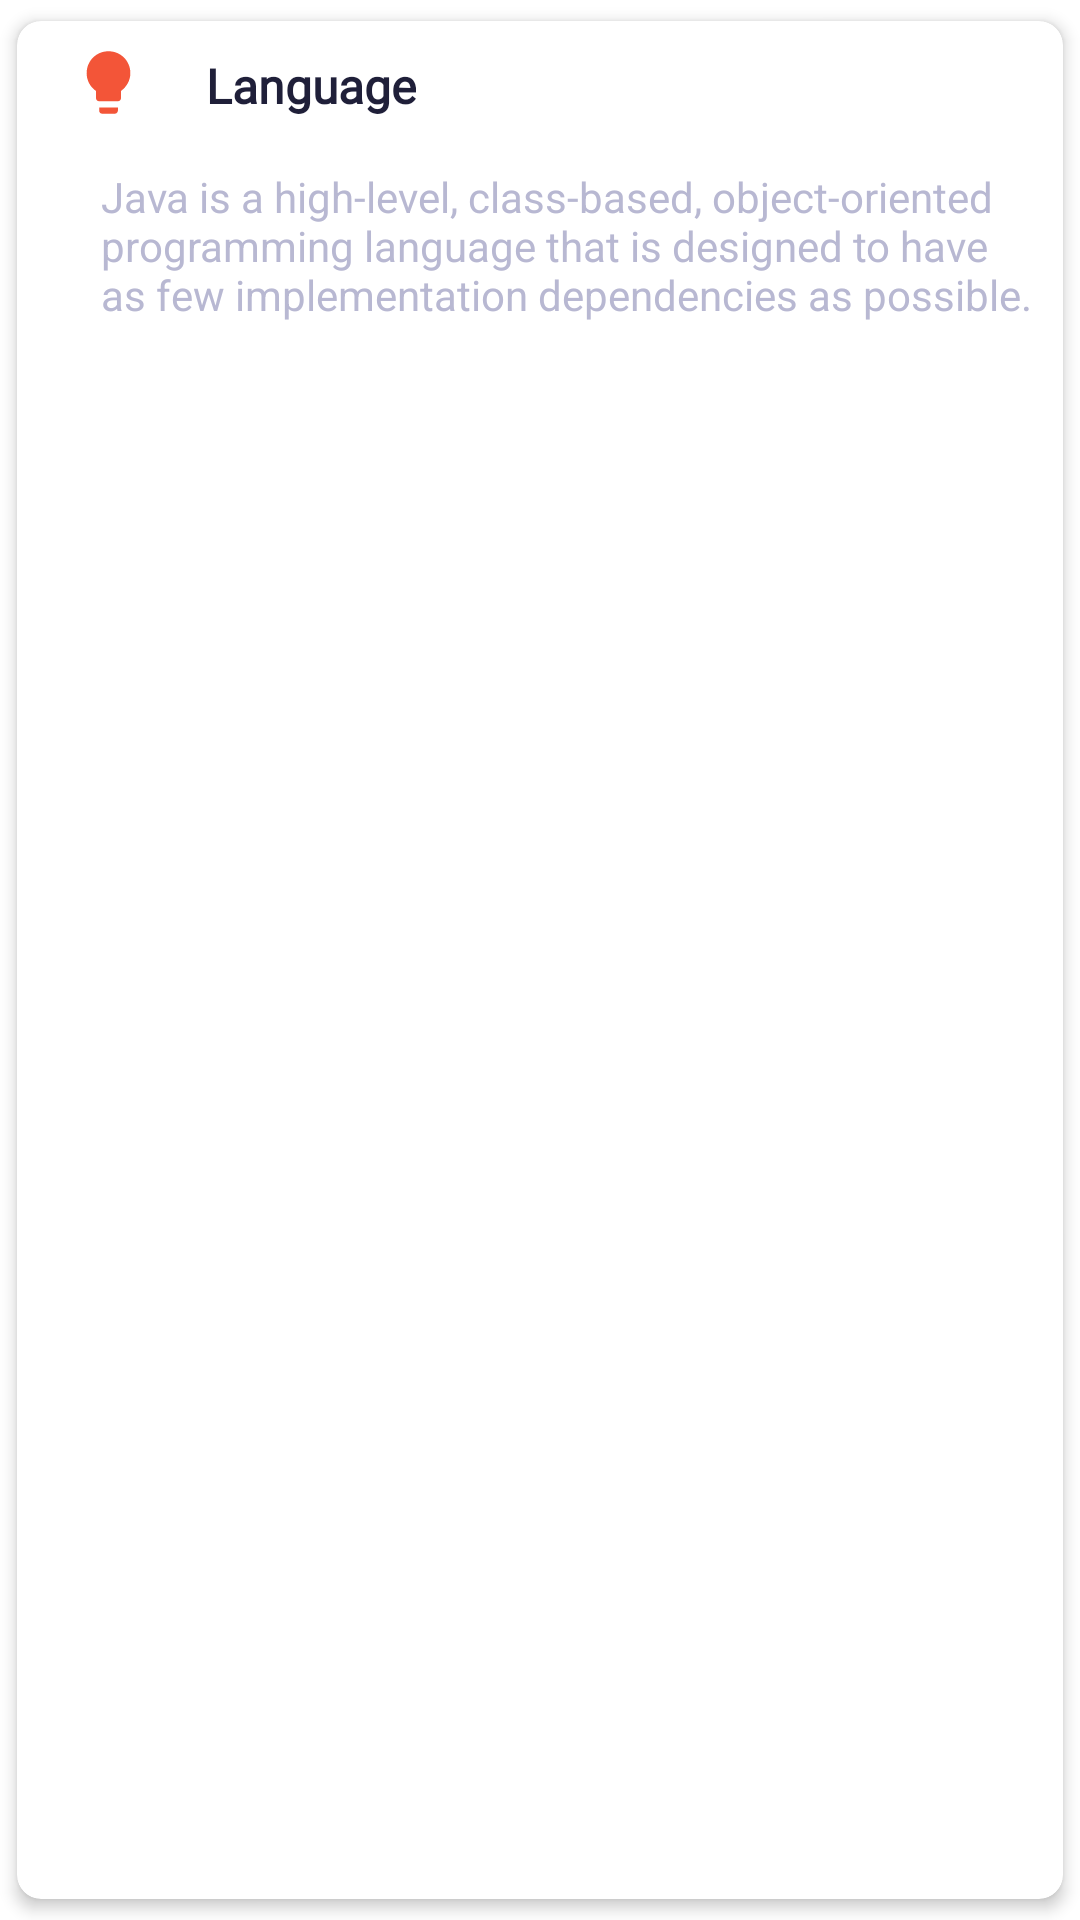

Icons on this 1080*1920 Android screen, each with the point to tap as (x=x, y=y):
tips: (x=108, y=82)
